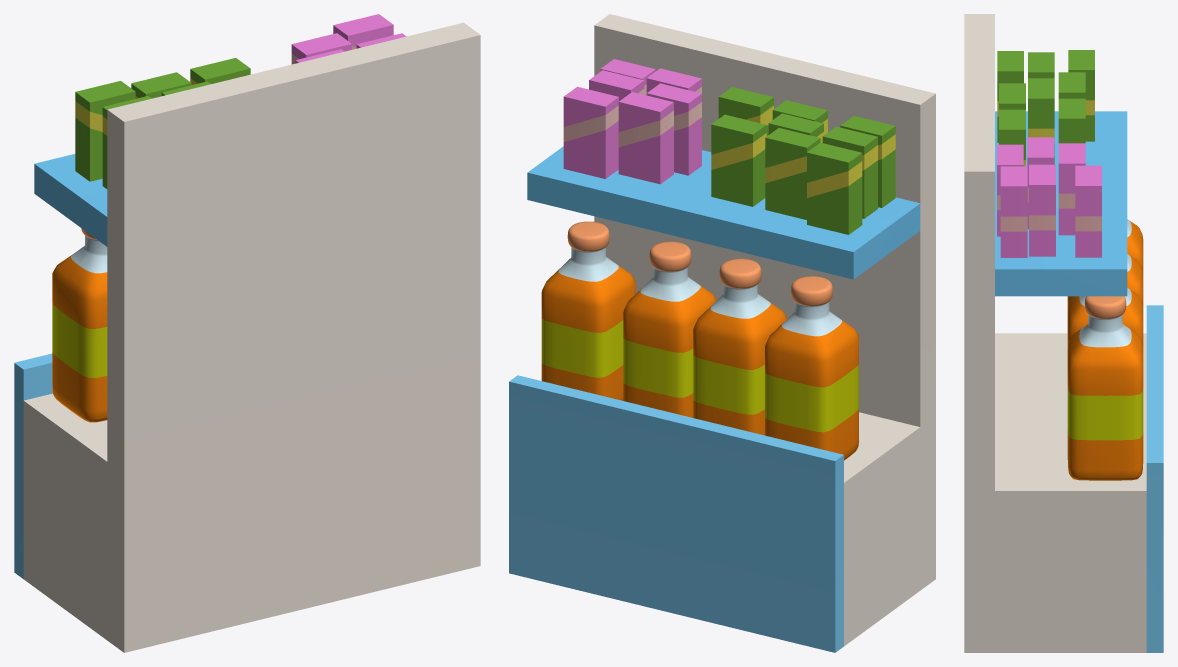
File: ShelvesJuice.fbx
3 renders of one model, left to right at view 1: azimuth 30°, elevation 25°; view 2: azimuth 150°, elevation 25°; view 3: azimuth 270°, elevation 25°, orthographic. The views are drawn at different scales.
Visible parts, largest first — view 1: ShelvesJuice; view 2: ShelvesJuice; view 3: ShelvesJuice.
Part boxes in pixels (x1,y1,x2,y2): ShelvesJuice: (14, 14, 480, 652); ShelvesJuice: (509, 14, 935, 652); ShelvesJuice: (964, 14, 1163, 652).
Bounding box in the file's own units: 205 × 292 × 110.
